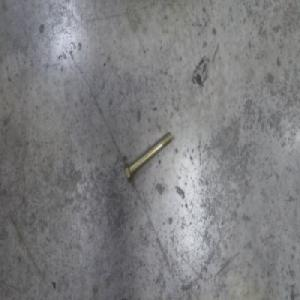Bolt: (122, 128, 172, 185)
